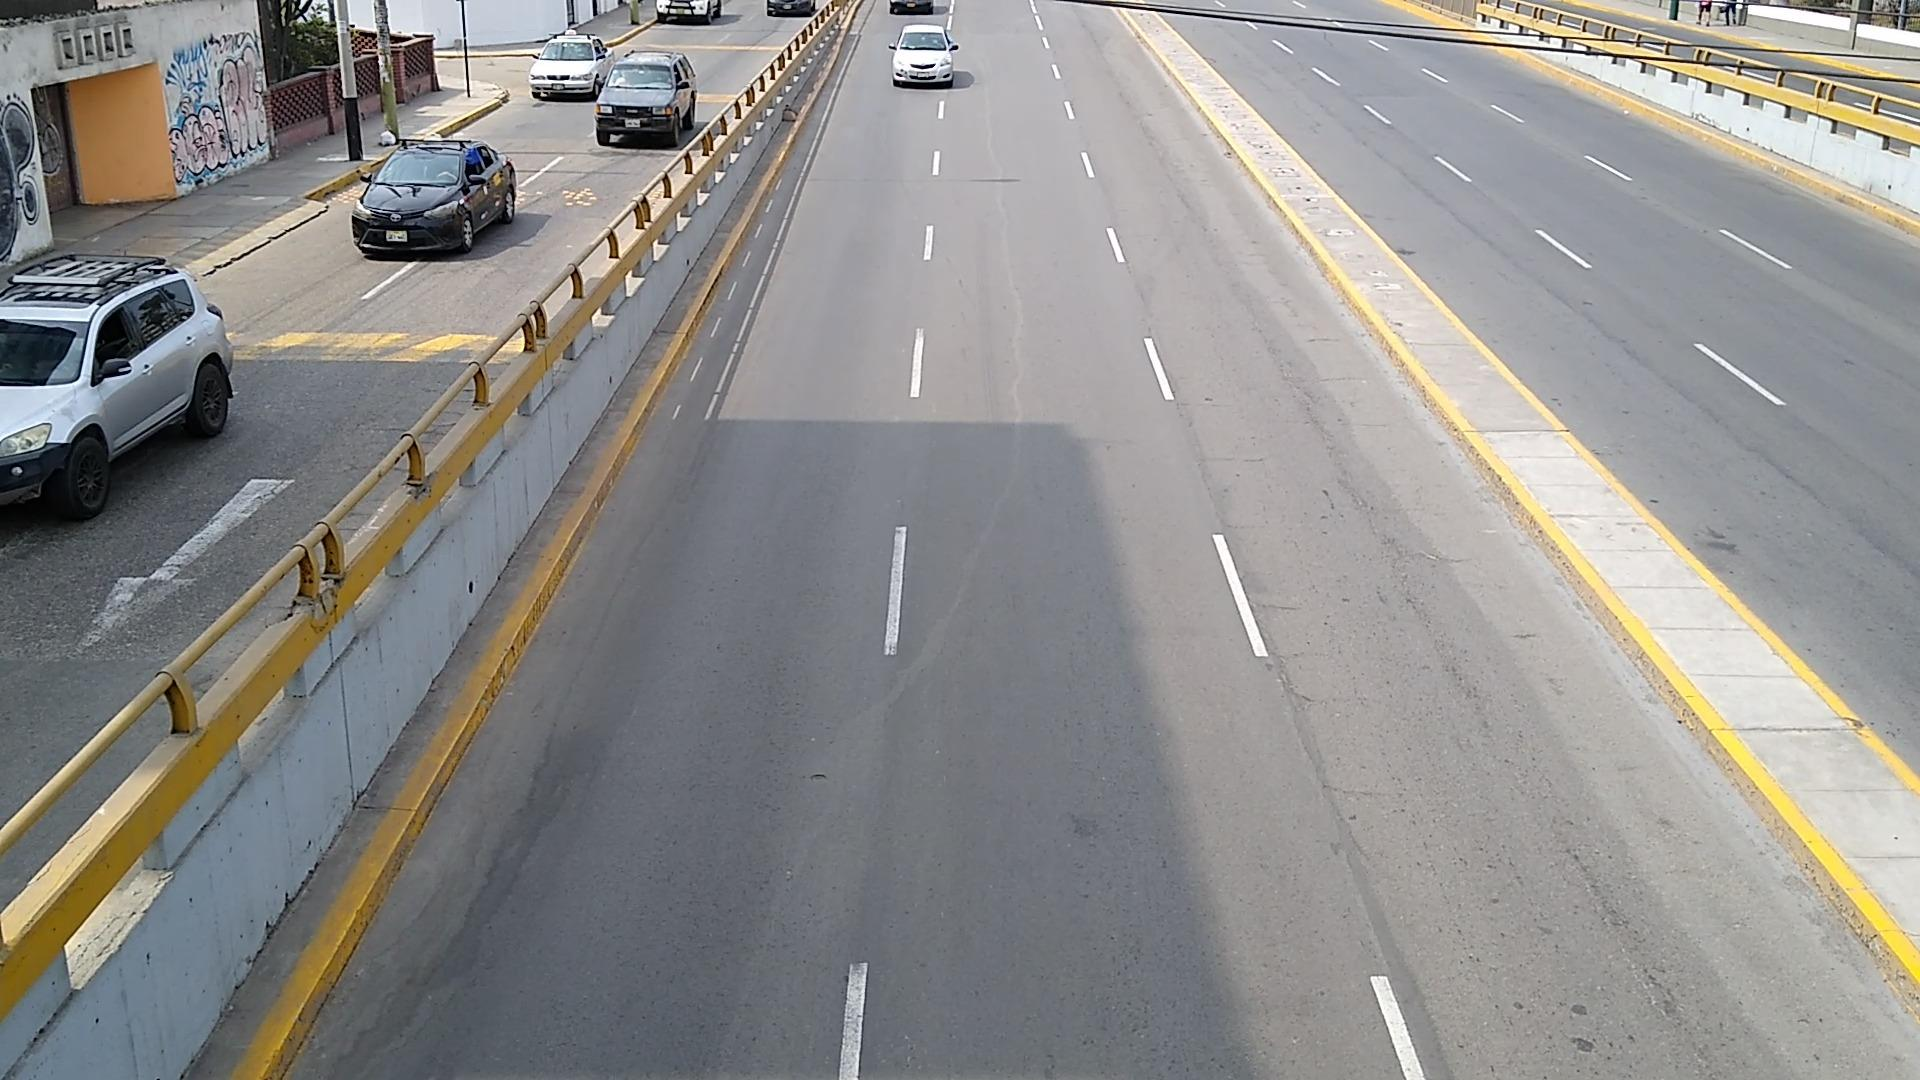car: (0, 255, 232, 517), (352, 138, 517, 255), (596, 53, 698, 146), (529, 34, 612, 98), (889, 26, 956, 86), (657, 0, 724, 22), (765, 1, 818, 18), (889, 0, 938, 15)
